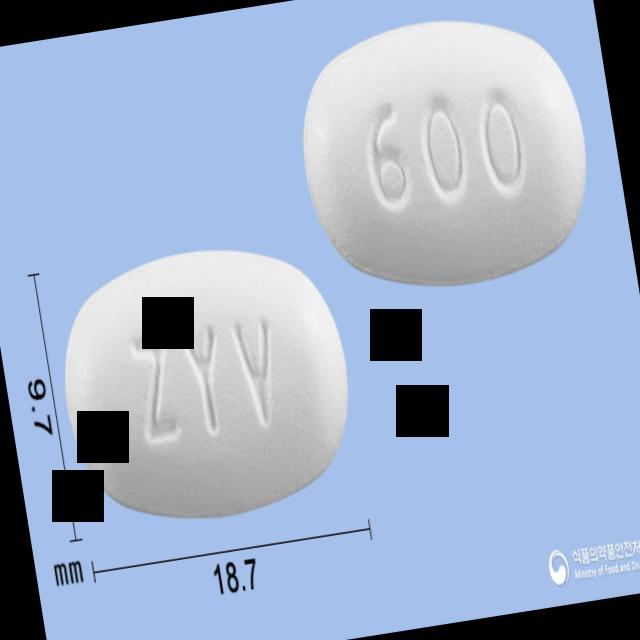Zyvox Tab: (45, 229, 367, 540), (285, 0, 604, 307)
